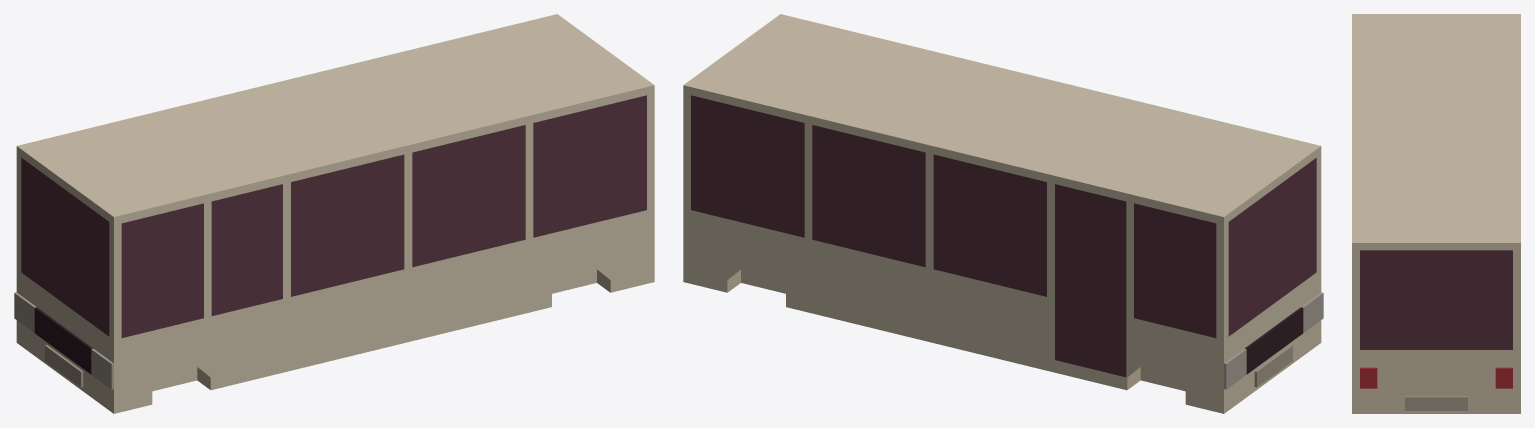
File: Bus_White.fbx
3 renders of one model, left to right at view 1: azimuth 30°, elevation 25°; view 2: azimuth 150°, elevation 25°; view 3: azimuth 270°, elevation 25°, orthographic. The views are drawn at different scales.
Visible parts, largest first — view 1: Bus_White, Bus_Lights; view 2: Bus_White, Bus_Lights; view 3: Bus_White, Bus_Lights.
Part boxes in pixels (left/top/right/bottom): Bus_White: left=16, top=14, right=654, bottom=413; Bus_Lights: left=14, top=292, right=113, bottom=389; Bus_White: left=683, top=14, right=1321, bottom=413; Bus_Lights: left=1224, top=292, right=1323, bottom=389; Bus_White: left=1352, top=14, right=1520, bottom=413; Bus_Lights: left=1360, top=367, right=1512, bottom=388.
Size of the model in its own units: 6.96 by 2.4 by 2.15.
